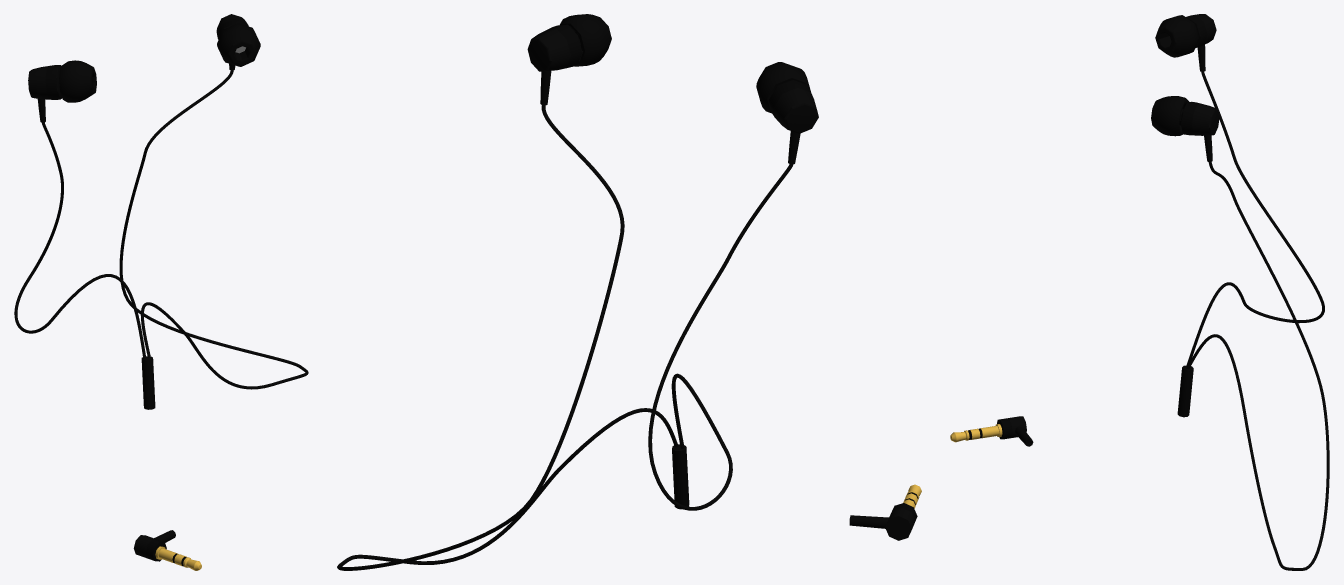
The model's file is in ear.FBX.
3 views of the same model, side by side, from view 1: azimuth 30°, elevation 25°; view 2: azimuth 150°, elevation 25°; view 3: azimuth 270°, elevation 25° (orthographic). The views are drawn at different scales.
Visible parts, largest first — view 1: L wire, L wire001, L phone bud, L phone bud 001, rubber connector, L phone base001, jack connector, L phone driver 001; view 2: L wire, L wire001, L phone bud, L phone base001, L phone base, L phone bud 001, rubber connector, jack base; view 3: L wire, L wire001, L phone bud 001, L phone bud, L phone base, rubber connector, jack connector.
Boxes of the visible parts, left/top/right/bottom form: L wire: left=119, top=70, right=308, bottom=389; L wire001: left=14, top=122, right=146, bottom=359; L phone bud: left=217, top=23, right=260, bottom=66; L phone bud 001: left=59, top=60, right=96, bottom=102; rubber connector: left=141, top=356, right=155, bottom=409; L phone base001: left=28, top=66, right=48, bottom=99; jack connector: left=155, top=546, right=201, bottom=570; L phone driver 001: left=45, top=65, right=61, bottom=99; L wire: left=337, top=105, right=678, bottom=570; L wire001: left=648, top=164, right=793, bottom=510; L phone bud: left=560, top=14, right=611, bottom=66; L phone base001: left=774, top=88, right=818, bottom=133; L phone base: left=527, top=29, right=570, bottom=71; L phone bud 001: left=756, top=62, right=810, bottom=113; rubber connector: left=672, top=444, right=689, bottom=509; jack base: left=885, top=508, right=915, bottom=540; L wire: left=1186, top=161, right=1329, bottom=570; L wire001: left=1186, top=71, right=1324, bottom=366; L phone bud 001: left=1155, top=15, right=1198, bottom=57; L phone bud: left=1151, top=96, right=1189, bottom=136; L phone base: left=1192, top=104, right=1219, bottom=135; rubber connector: left=1177, top=365, right=1193, bottom=417; jack connector: left=950, top=424, right=1002, bottom=442.
Bounding box in the file's own units: 4.77 × 6.02 × 4.88.
